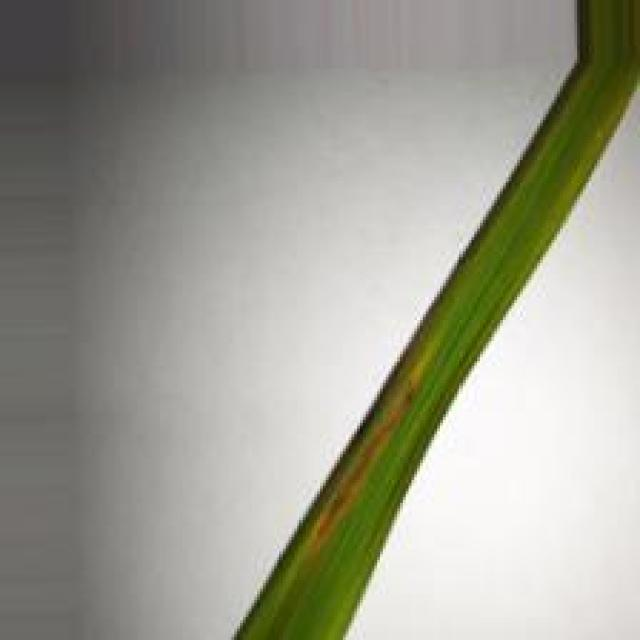Rice Tungro: (302, 351, 431, 550)
